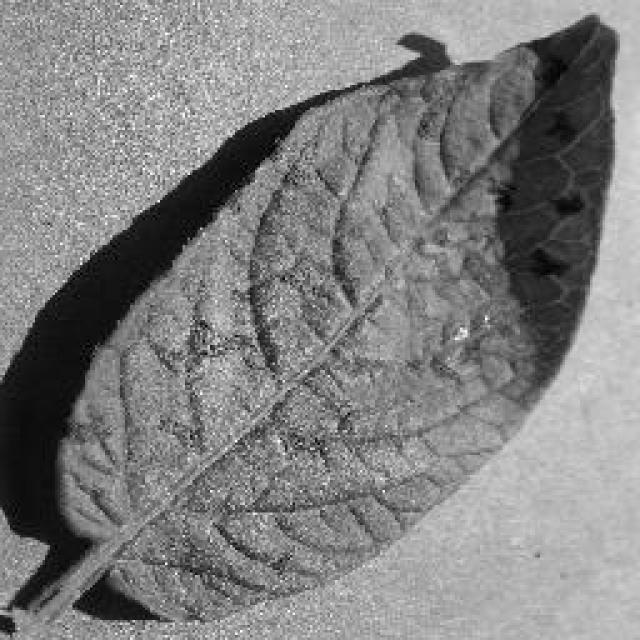Potato: (0, 10, 620, 625)
